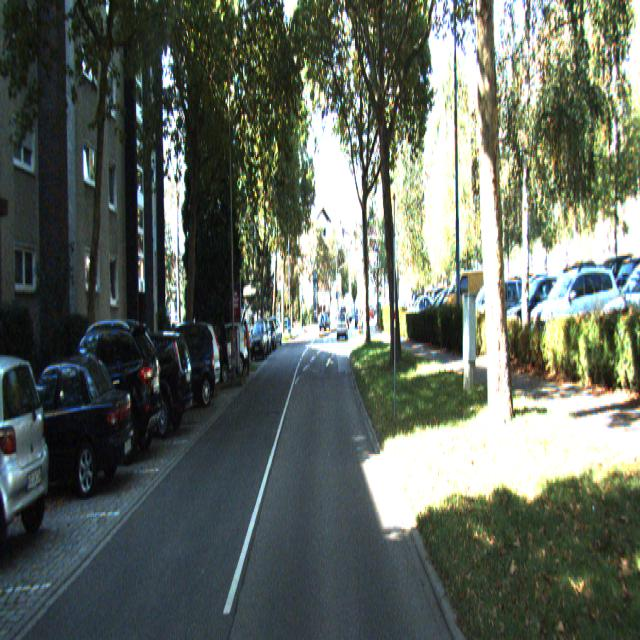Car: (0, 350, 134, 507), (52, 316, 163, 464), (0, 350, 54, 592), (97, 322, 193, 441), (142, 316, 215, 414), (203, 320, 248, 380), (194, 323, 228, 384), (250, 320, 267, 364)
